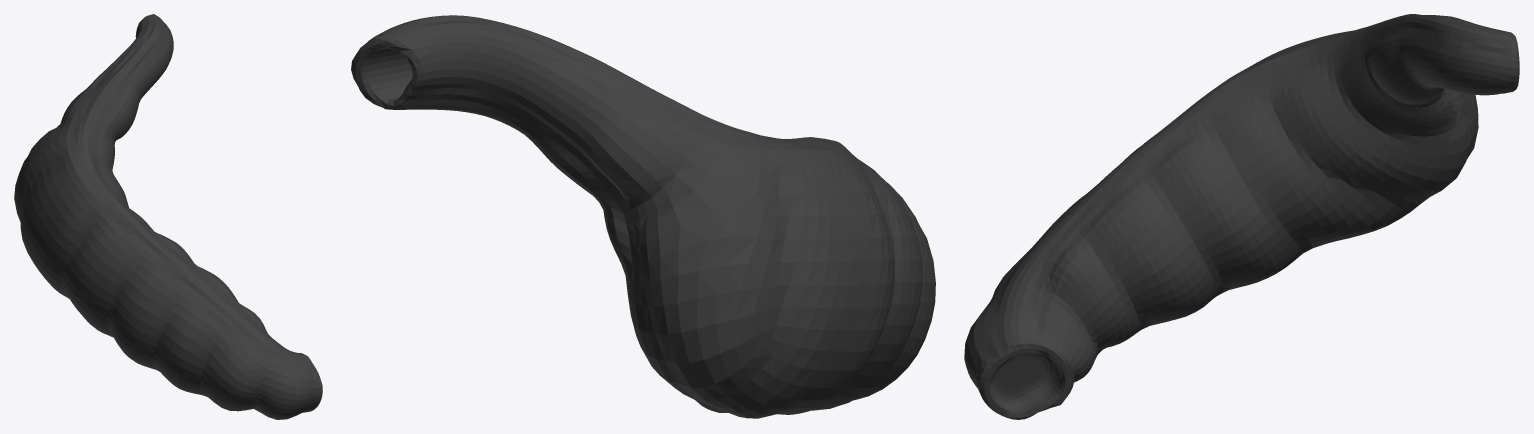
The model's file is R_dorsal_colon.glb.
The picture shows the model from 3 angles, left to right: view 1: azimuth 30°, elevation 25°; view 2: azimuth 150°, elevation 25°; view 3: azimuth 270°, elevation 25°; orthographic projection. The views are drawn at different scales.
Visible parts, largest first — view 1: R_dorsal_colon; view 2: R_dorsal_colon; view 3: R_dorsal_colon.
Part boxes in pixels (x1,y1,x2,y2): R_dorsal_colon: (14, 14, 322, 419); R_dorsal_colon: (351, 15, 935, 418); R_dorsal_colon: (964, 14, 1519, 419).
Size of the model in its own units: 0.5603 by 0.7561 by 0.959.
1 material, 1 textured.
